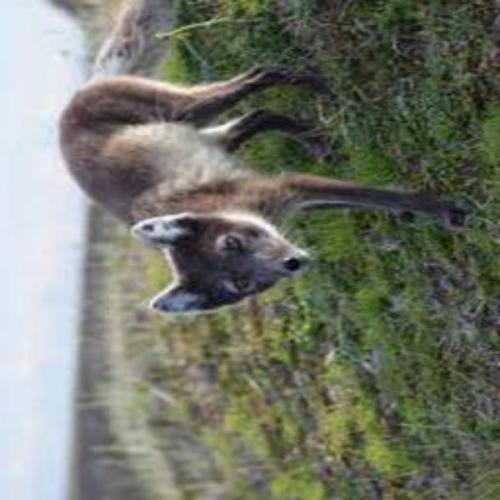arctic_fox-endangered: (55, 0, 474, 316)
